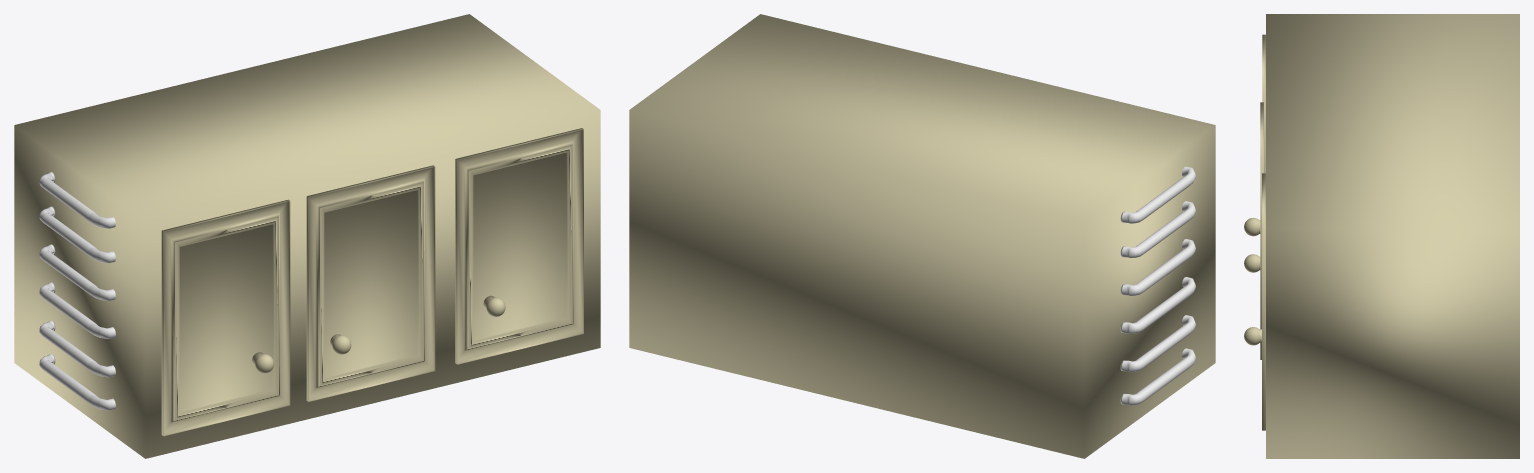
File: placard_rampe.fbx
The picture shows the model from 3 angles, left to right: view 1: azimuth 30°, elevation 25°; view 2: azimuth 150°, elevation 25°; view 3: azimuth 270°, elevation 25°; orthographic projection. The views are drawn at different scales.
Visible parts, largest first — view 1: Cube, Plane_002, Plane_003, Plane_001, Cylinder_011, Cylinder_012, Cylinder_008, rampe, Cylinder_009, Cylinder_010; view 2: Cube, rampe, Cylinder_008, Cylinder_012, Cylinder_011, Cylinder_009, Cylinder_010; view 3: Cube, Plane_001, Plane_002, Plane_003.
Part boxes in pixels (left/top/right/bottom): Cube: left=14, top=14, right=600, bottom=458; Plane_002: left=306, top=165, right=435, bottom=401; Plane_003: left=161, top=199, right=290, bottom=436; Plane_001: left=455, top=128, right=583, bottom=364; Cylinder_011: left=39, top=206, right=115, bottom=263; Cylinder_012: left=39, top=172, right=115, bottom=228; Cylinder_008: left=39, top=320, right=115, bottom=377; rampe: left=39, top=354, right=115, bottom=410; Cylinder_009: left=39, top=282, right=115, bottom=338; Cylinder_010: left=39, top=244, right=115, bottom=301; Cube: left=629, top=14, right=1215, bottom=458; rampe: left=1120, top=348, right=1195, bottom=405; Cylinder_008: left=1120, top=315, right=1195, bottom=372; Cylinder_012: left=1120, top=166, right=1195, bottom=223; Cylinder_011: left=1120, top=201, right=1195, bottom=257; Cylinder_009: left=1120, top=277, right=1195, bottom=333; Cylinder_010: left=1120, top=239, right=1195, bottom=295; Cube: left=1266, top=14, right=1519, bottom=458; Plane_001: left=1262, top=173, right=1265, bottom=430; Plane_002: left=1260, top=102, right=1263, bottom=359; Plane_003: left=1262, top=34, right=1265, bottom=173.
Bounding box in the file's own units: 4.15 × 2 × 2.17.
